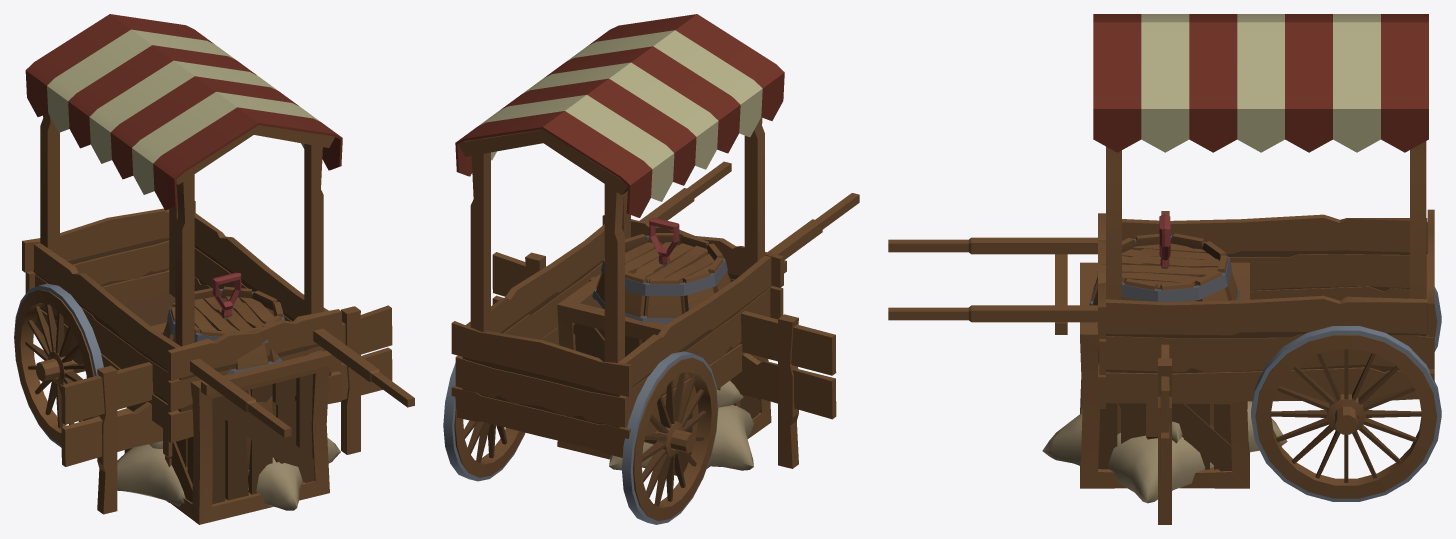
File: props.glb
3 renders of one model, left to right at view 1: azimuth 30°, elevation 25°; view 2: azimuth 150°, elevation 25°; view 3: azimuth 270°, elevation 25°, orthographic. The views are drawn at different scales.
Parts seen in each view (by area): view 1: handcart_Wood, handcart_Red, picketfence_Wood, handcart_Beige, woodcrate_DarkWood, woodcrate_Wood, handcart_DarkWood, grainsacks_Bag, oakbarrel_Wood, handcart_Stone_Dark, shovel_Red, oakbarrel_DarkWood (+1 smaller); view 2: handcart_Wood, handcart_Red, handcart_Beige, picketfence_Wood, handcart_DarkWood, oakbarrel_Wood, handcart_Stone_Dark, woodcrate_Wood, grainsacks_Bag, oakbarrel_Stone, woodcrate_DarkWood, oakbarrel_DarkWood (+1 smaller); view 3: handcart_Wood, handcart_Red, handcart_Beige, handcart_DarkWood, woodcrate_Wood, grainsacks_Bag, oakbarrel_Wood, woodcrate_DarkWood, handcart_Stone_Dark, picketfence_Wood, oakbarrel_Stone, oakbarrel_DarkWood.
Boxes of the visible parts, x1,y1,x2,y2 form: handcart_Wood: [14, 113, 414, 502]; handcart_Red: [25, 14, 342, 210]; picketfence_Wood: [61, 305, 392, 514]; handcart_Beige: [47, 29, 320, 194]; woodcrate_DarkWood: [171, 374, 314, 504]; woodcrate_Wood: [124, 322, 329, 524]; handcart_DarkWood: [25, 238, 331, 428]; grainsacks_Bag: [117, 437, 340, 510]; oakbarrel_Wood: [163, 286, 283, 469]; handcart_Stone_Dark: [14, 283, 103, 447]; shovel_Red: [212, 272, 241, 316]; oakbarrel_DarkWood: [194, 289, 277, 414]; handcart_Wood: [451, 117, 859, 521]; handcart_Red: [455, 14, 784, 217]; handcart_Beige: [479, 30, 762, 201]; picketfence_Wood: [492, 252, 836, 468]; handcart_DarkWood: [462, 259, 771, 506]; oakbarrel_Wood: [594, 233, 730, 318]; handcart_Stone_Dark: [443, 351, 718, 524]; woodcrate_Wood: [557, 273, 771, 475]; grainsacks_Bag: [609, 380, 754, 470]; oakbarrel_Stone: [592, 235, 727, 324]; woodcrate_DarkWood: [573, 297, 760, 418]; oakbarrel_DarkWood: [625, 235, 717, 316]; handcart_Wood: [888, 141, 1437, 498]; handcart_Red: [1093, 14, 1428, 152]; handcart_Beige: [1141, 14, 1380, 152]; handcart_DarkWood: [1106, 222, 1427, 482]; woodcrate_Wood: [1080, 262, 1249, 488]; grainsacks_Bag: [1042, 401, 1287, 503]; oakbarrel_Wood: [1091, 233, 1238, 420]; woodcrate_DarkWood: [1097, 275, 1231, 471]; handcart_Stone_Dark: [1251, 287, 1441, 501]; picketfence_Wood: [1158, 211, 1171, 524]; oakbarrel_Stone: [1089, 235, 1240, 305]; oakbarrel_DarkWood: [1122, 236, 1220, 301].
Size of the model in its own units: 2 by 2.23 by 2.6.
